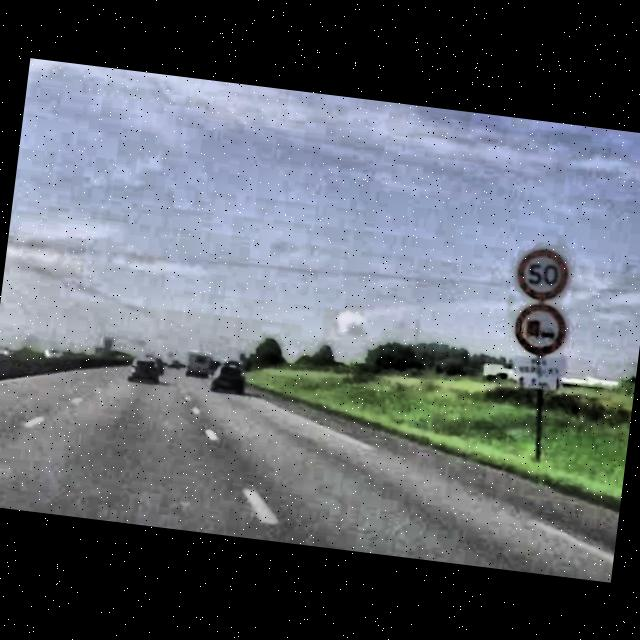speed_50: (514, 246, 571, 302)
